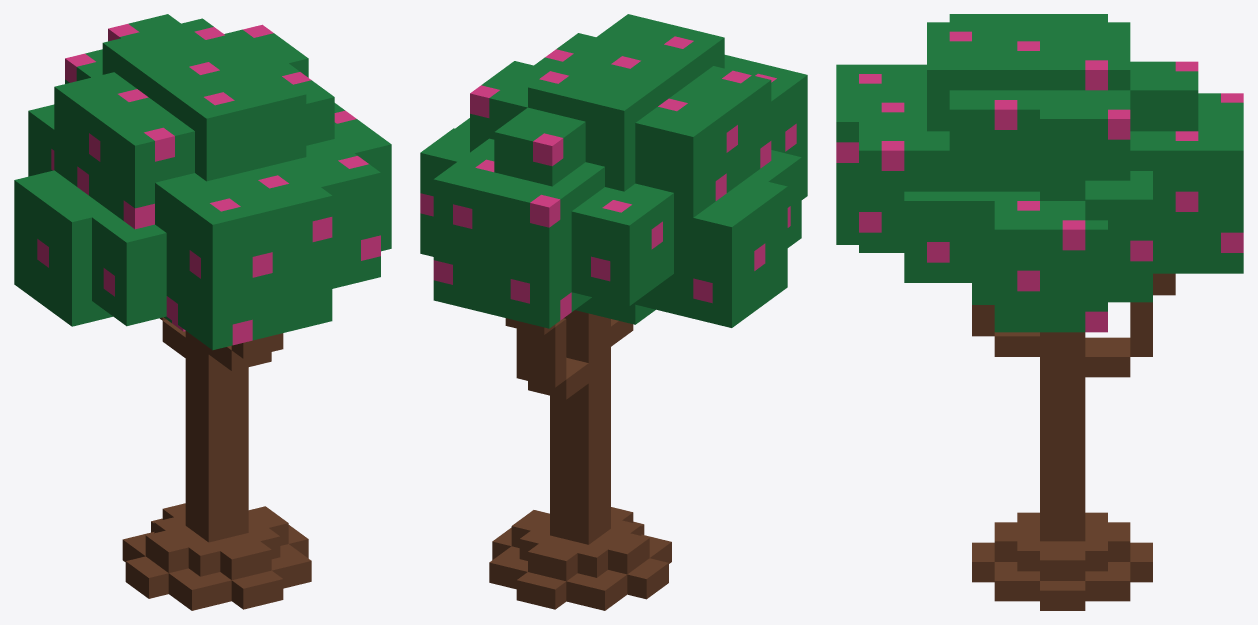
File: pink_tree2.obj
3 renders of one model, left to right at view 1: azimuth 30°, elevation 25°; view 2: azimuth 150°, elevation 25°; view 3: azimuth 270°, elevation 25°, orthographic. The views are drawn at different scales.
Size of the model in its own units: 1.6 by 2.5 by 1.8.
Materials: 1 (1 with a texture image).
